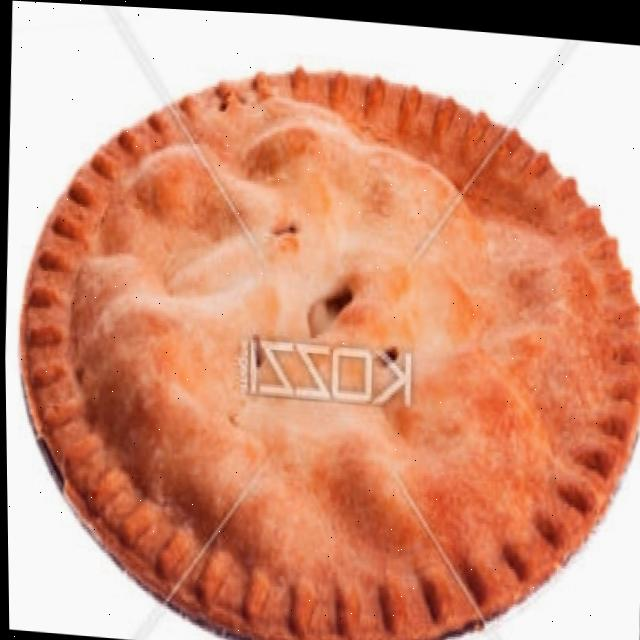炸货点心: (0, 18, 640, 640)
蛋糕甜品: (0, 18, 640, 640)
